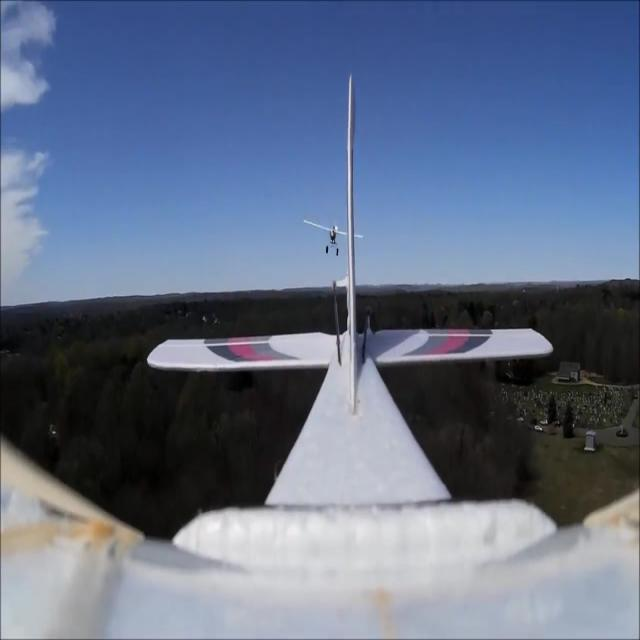iha: (302, 218, 364, 256)
